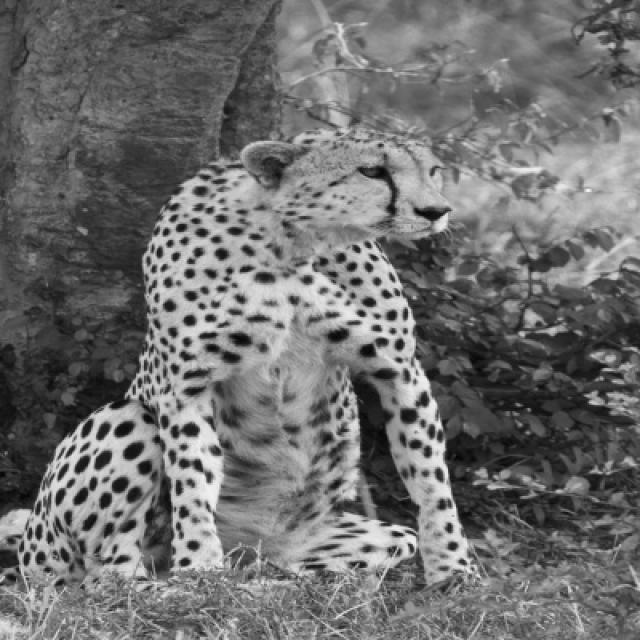Cheetah: (19, 133, 469, 584)
